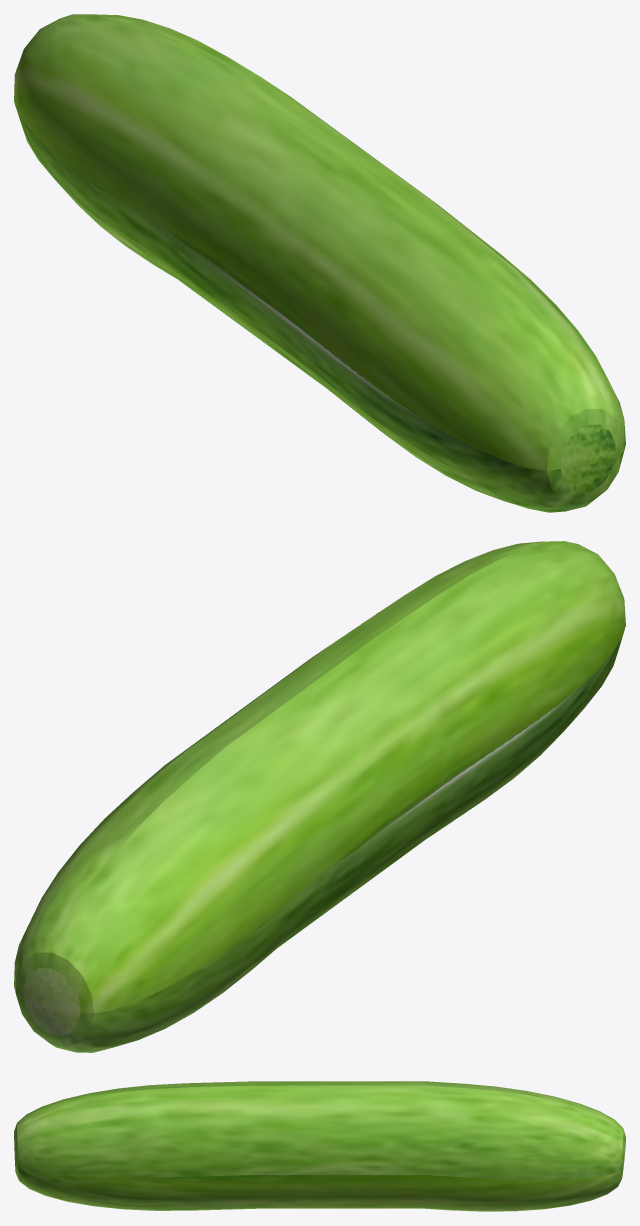
The model's file is timun.obj.
The picture shows the model from 3 angles, top to bottom: view 1: azimuth 30°, elevation 25°; view 2: azimuth 150°, elevation 25°; view 3: azimuth 270°, elevation 25°; orthographic projection. The views are drawn at different scales.
Parts seen in each view (by area): view 1: Cylinder.002_Cylinder.003; view 2: Cylinder.002_Cylinder.003; view 3: Cylinder.002_Cylinder.003.
Part boxes in pixels (bbox=[...]): Cylinder.002_Cylinder.003: bbox=[14, 14, 625, 512]; Cylinder.002_Cylinder.003: bbox=[14, 541, 625, 1052]; Cylinder.002_Cylinder.003: bbox=[14, 1081, 625, 1211].
Bounding box in the file's own units: 0.1576 × 0.1921 × 0.8777.
